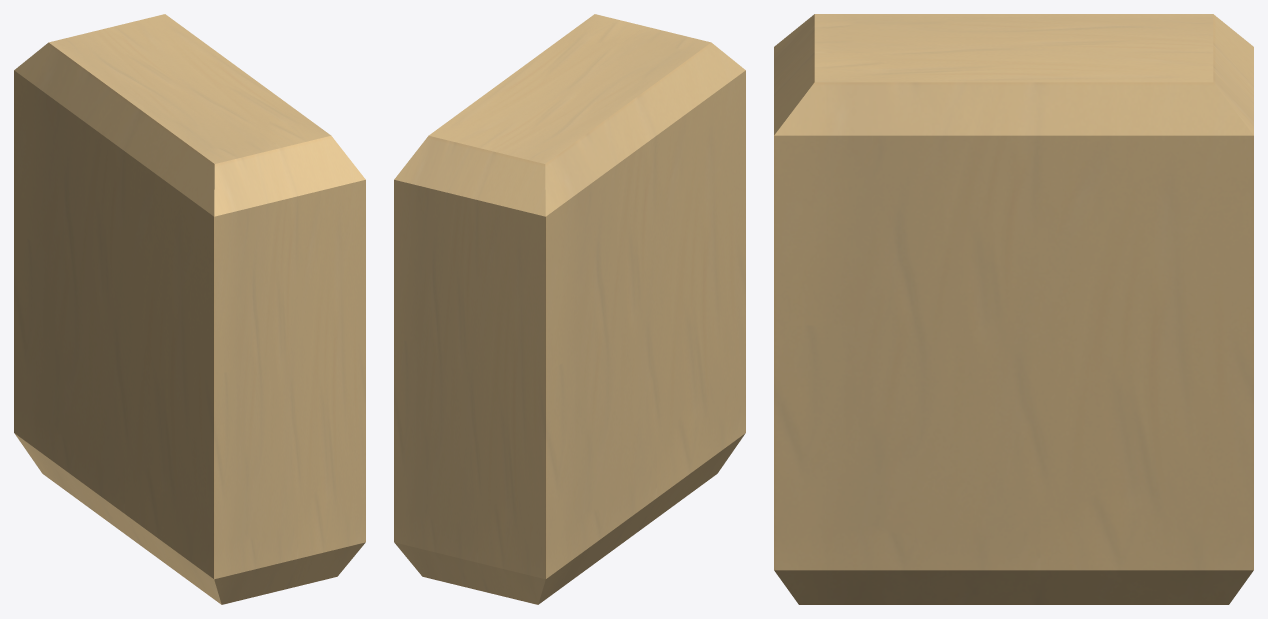
Rendered from BlockF.FBX.
3 renders of one model, left to right at view 1: azimuth 30°, elevation 25°; view 2: azimuth 150°, elevation 25°; view 3: azimuth 270°, elevation 25°, orthographic. The views are drawn at different scales.
Visible parts, largest first — view 1: BlockF; view 2: BlockF; view 3: BlockF.
Boxes of the visible parts, <box> form: BlockF: <box>14,14,365,604</box>; BlockF: <box>394,14,745,604</box>; BlockF: <box>774,14,1253,604</box>.
Bounding box in the file's own units: 2.19 × 5 × 6.01.
1 material, 1 textured.
